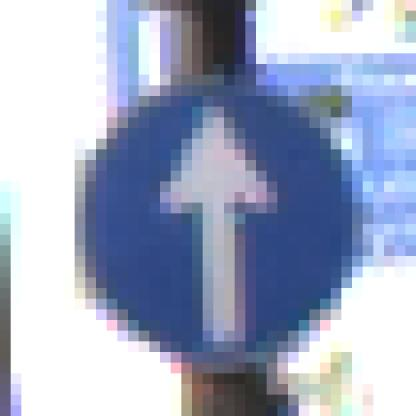AheadOnly: (65, 65, 353, 353)
